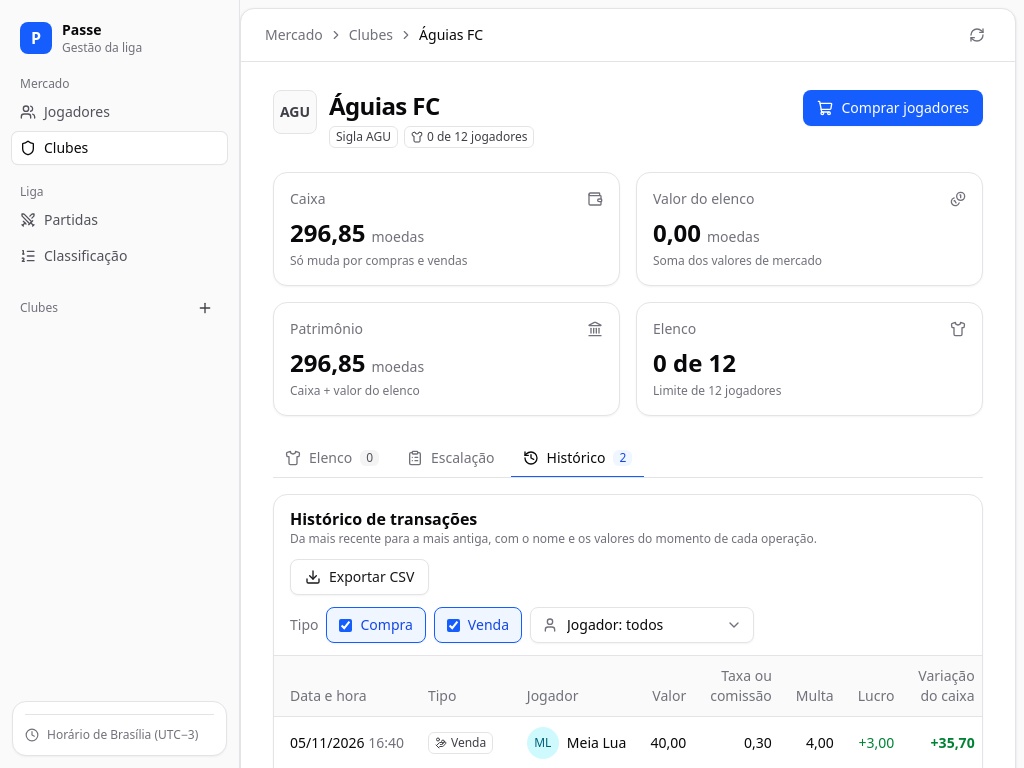
Test: Histórico de transações › filtra por um tipo e mostra os totais desse filtro
Click the checkbox labelled "Compra": (346,625) [340,618,352,632]
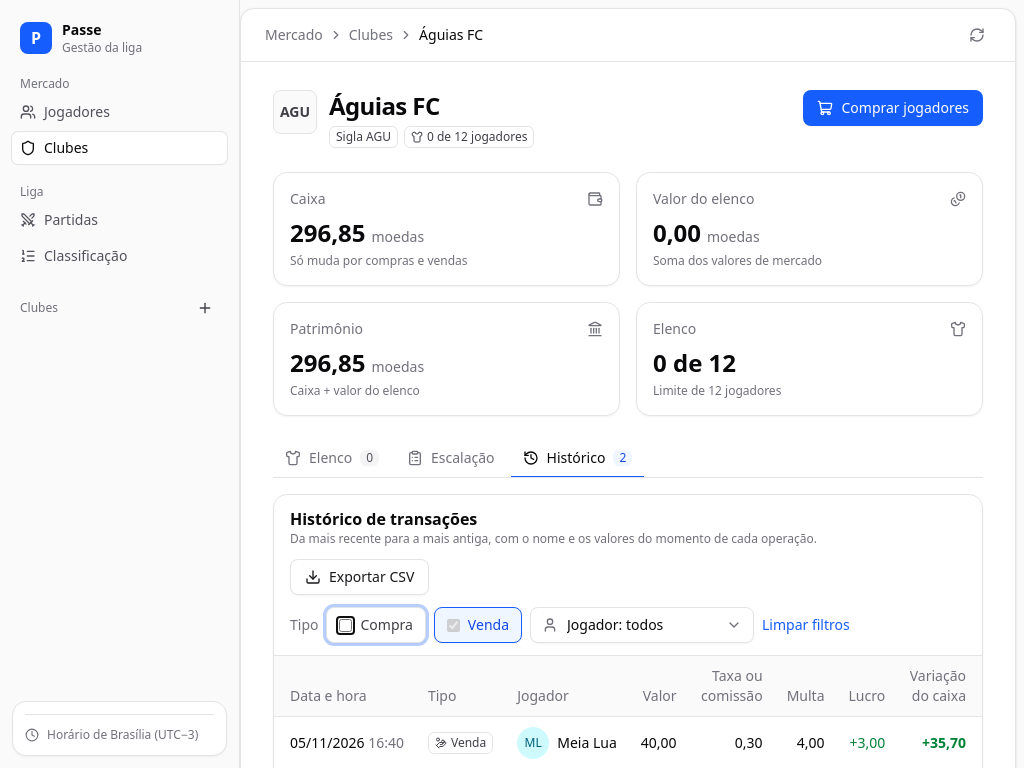
expect the checkbox labelled "Venda" is disabled: met, box [447,618,460,632]
